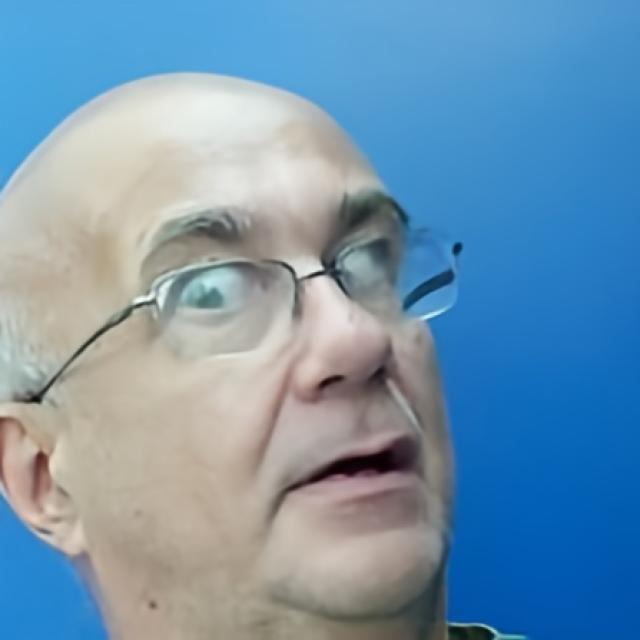fear: (0, 71, 450, 619)
